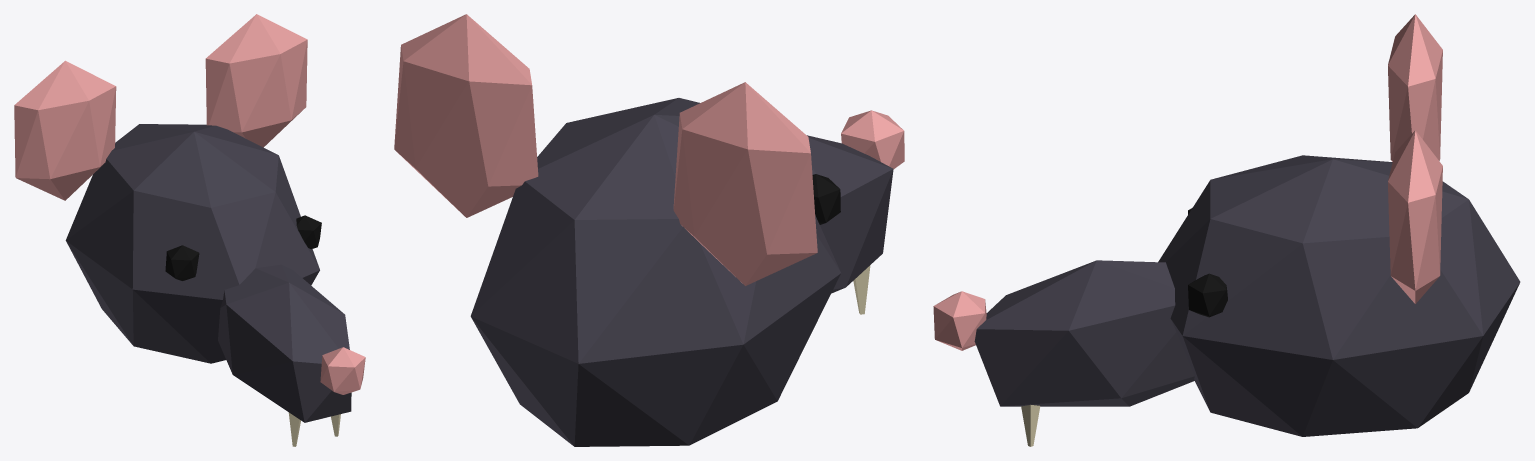
Rendered from rat_2_head.glb.
The picture shows the model from 3 angles, left to right: view 1: azimuth 30°, elevation 25°; view 2: azimuth 150°, elevation 25°; view 3: azimuth 270°, elevation 25°; orthographic projection. The views are drawn at different scales.
Visible parts, largest first — view 1: rat_2_head; view 2: rat_2_head; view 3: rat_2_head.
Boxes of the visible parts, x1=… form: rat_2_head: x1=14, y1=14, x2=365, y2=446; rat_2_head: x1=394, y1=14, x2=904, y2=446; rat_2_head: x1=933, y1=14, x2=1520, y2=446.
Bounding box in the file's own units: 0.152 × 0.145 × 0.2136.
